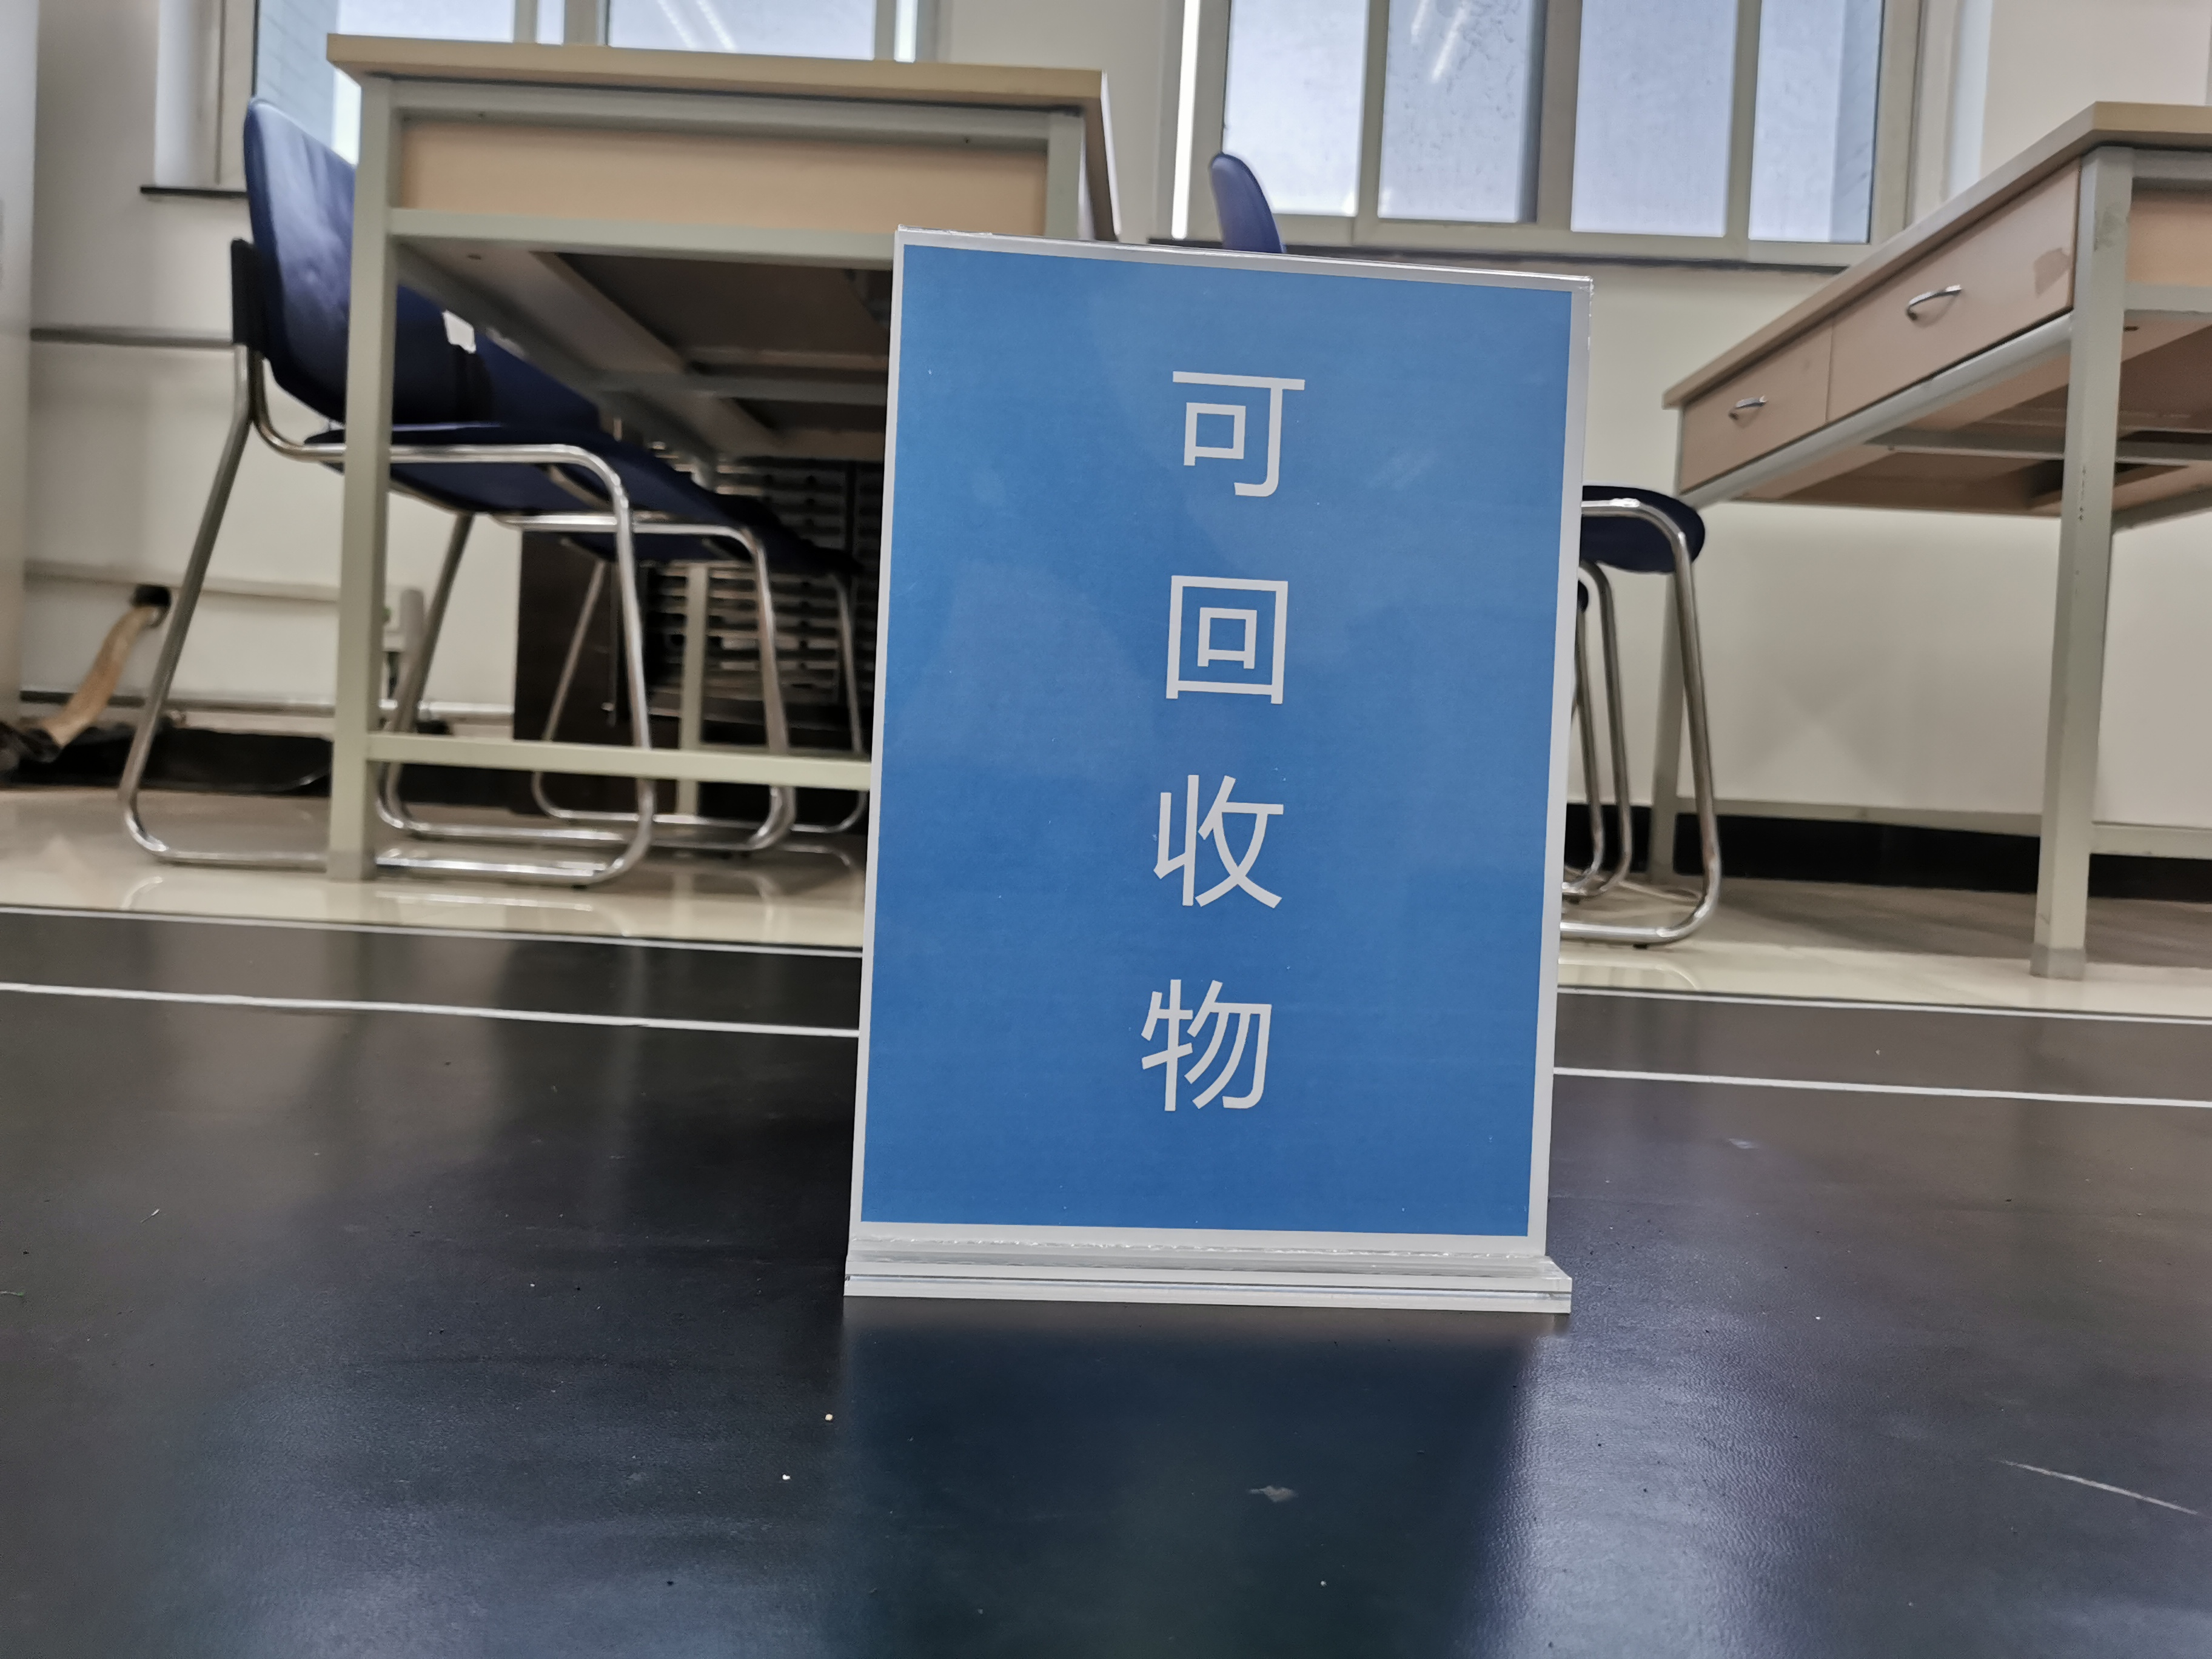blue: (911, 288, 1524, 1225)
